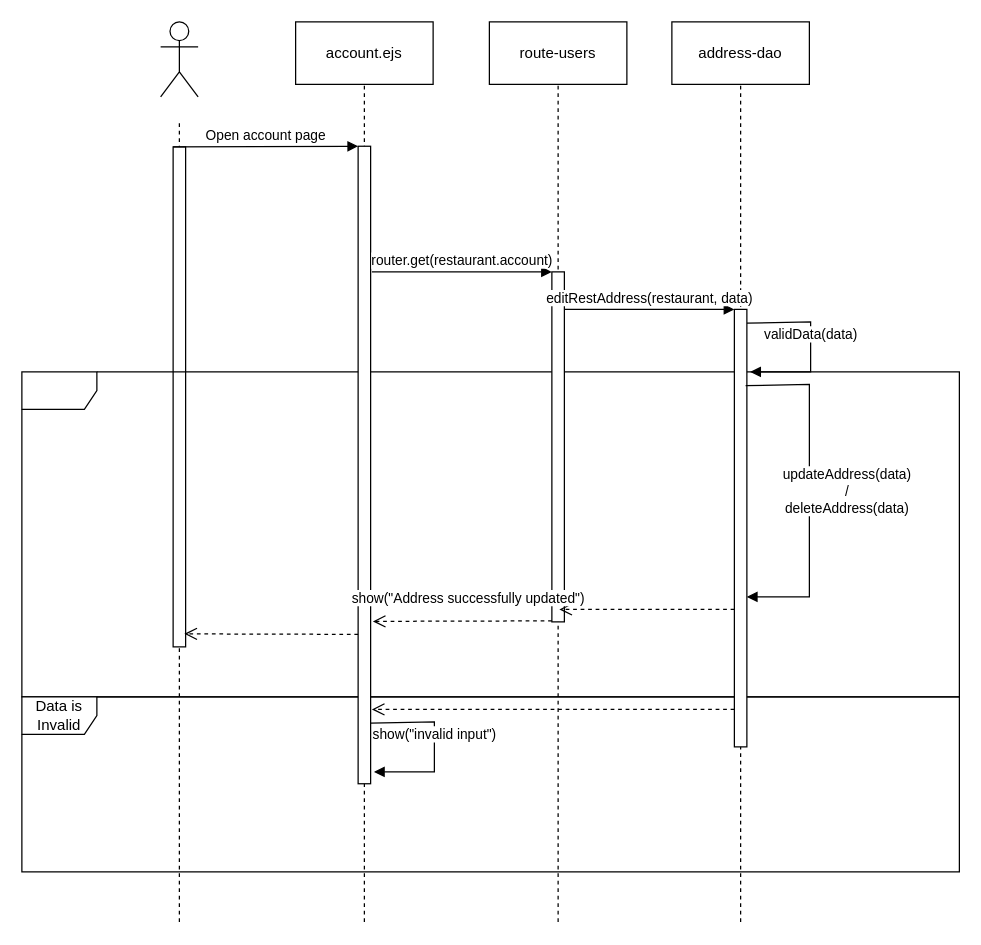
This 981x945 diagram has some shape labels left out. The shapes that lost their labels are listed below. From the top down, each one's centre as x and y in pixels, then its label:
At (x=178, y=59): "Restaurant".
At (x=490, y=534): "Data is Valid".
